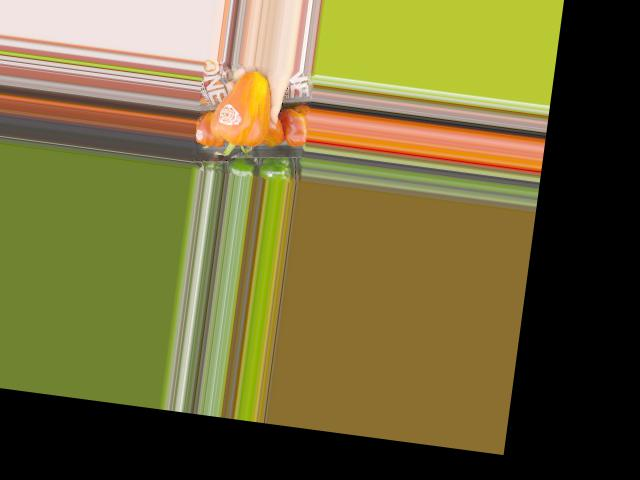bell_pepper: (204, 67, 282, 163)
